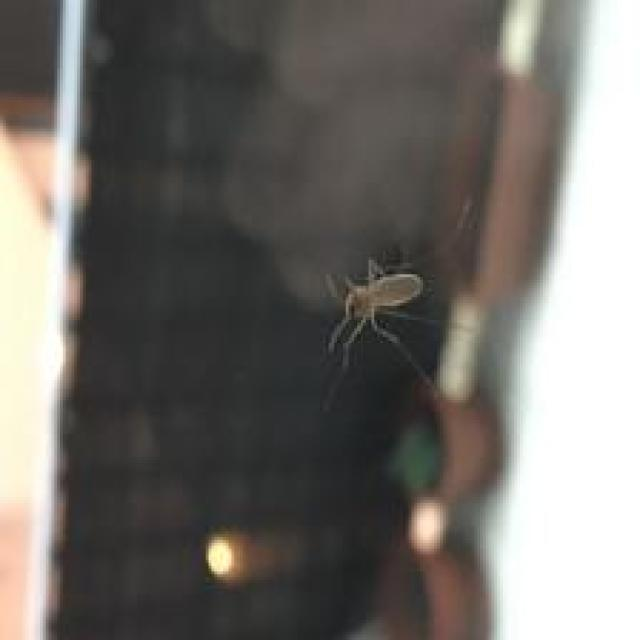Culex: (319, 248, 444, 412)
